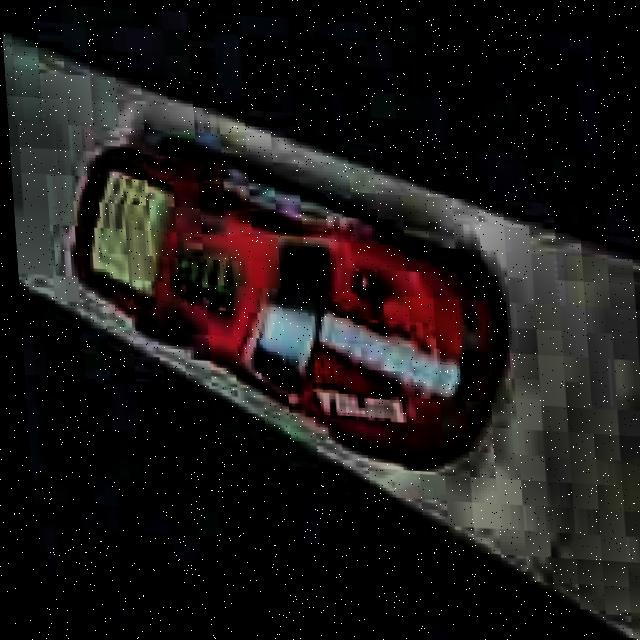car: (59, 129, 525, 478)
